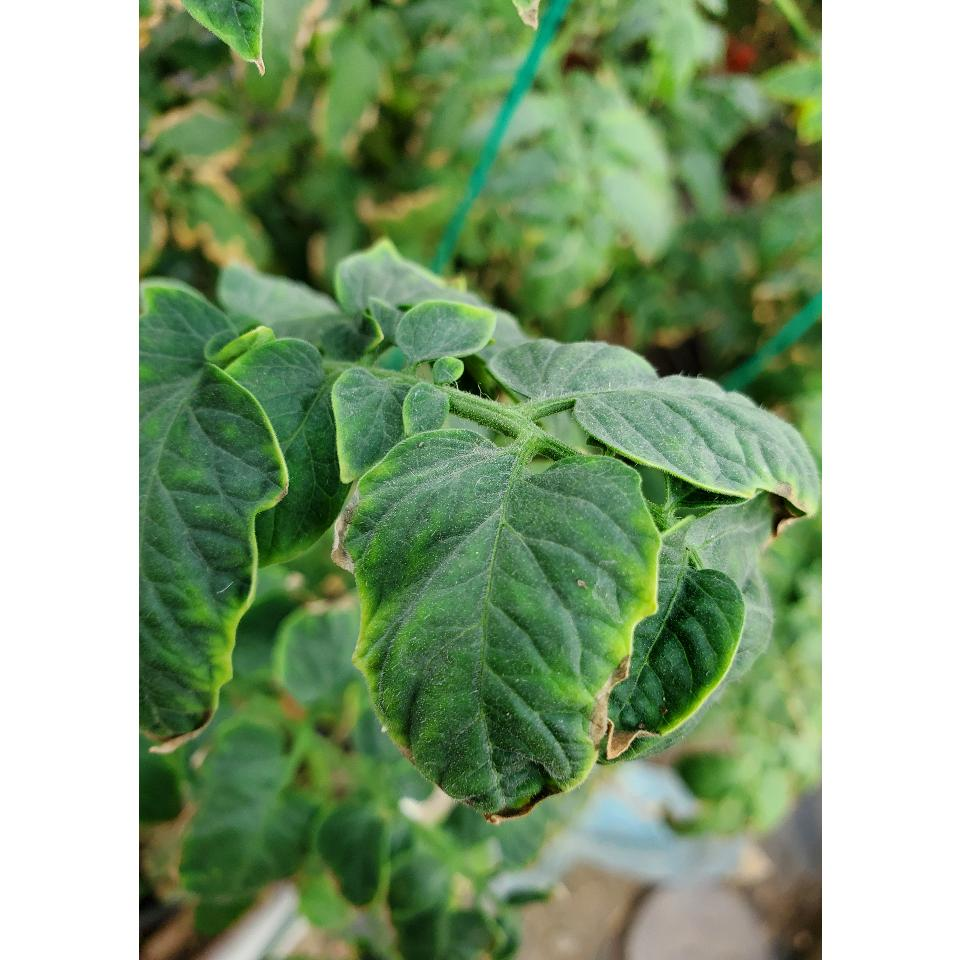tomato_bacterial_blight: (325, 421, 663, 828)
